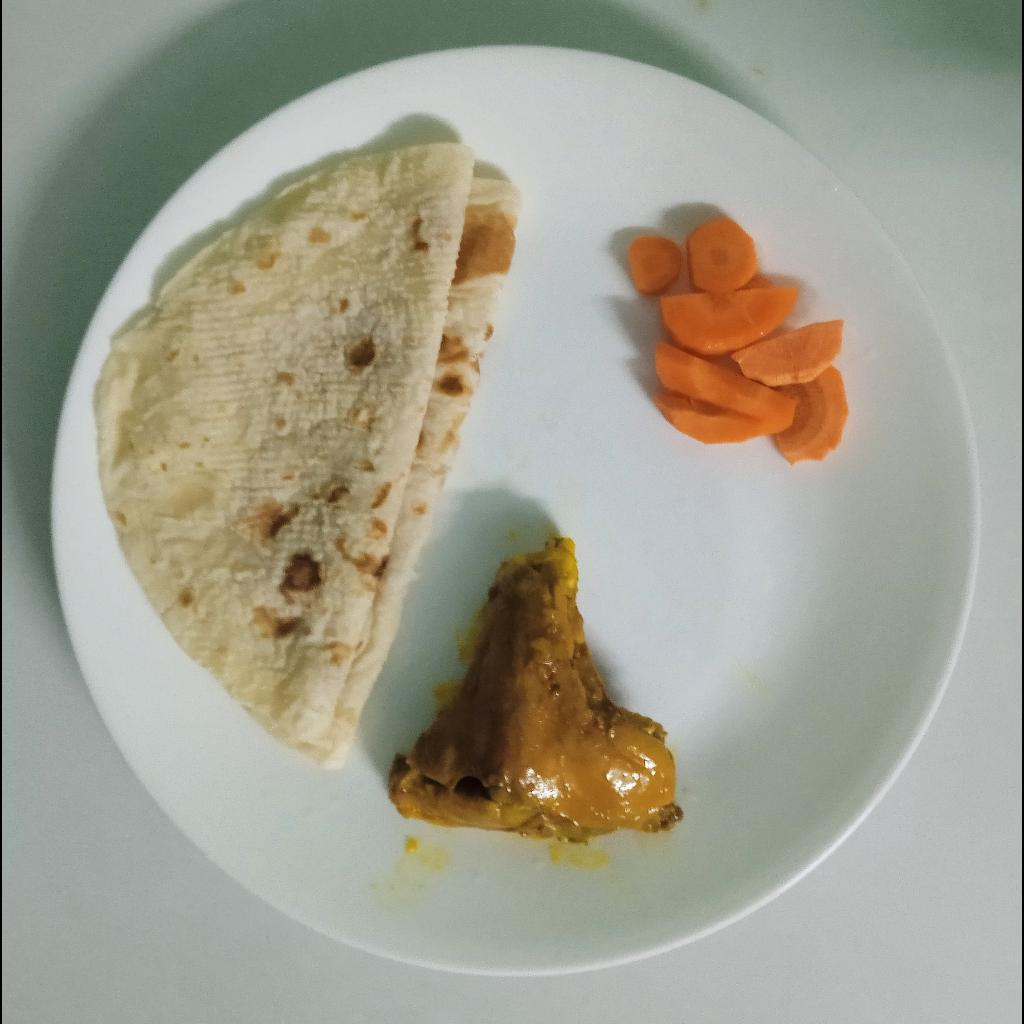carrot: (625, 215, 852, 469)
chicken: (385, 535, 686, 846)
ruti: (93, 146, 524, 771)
